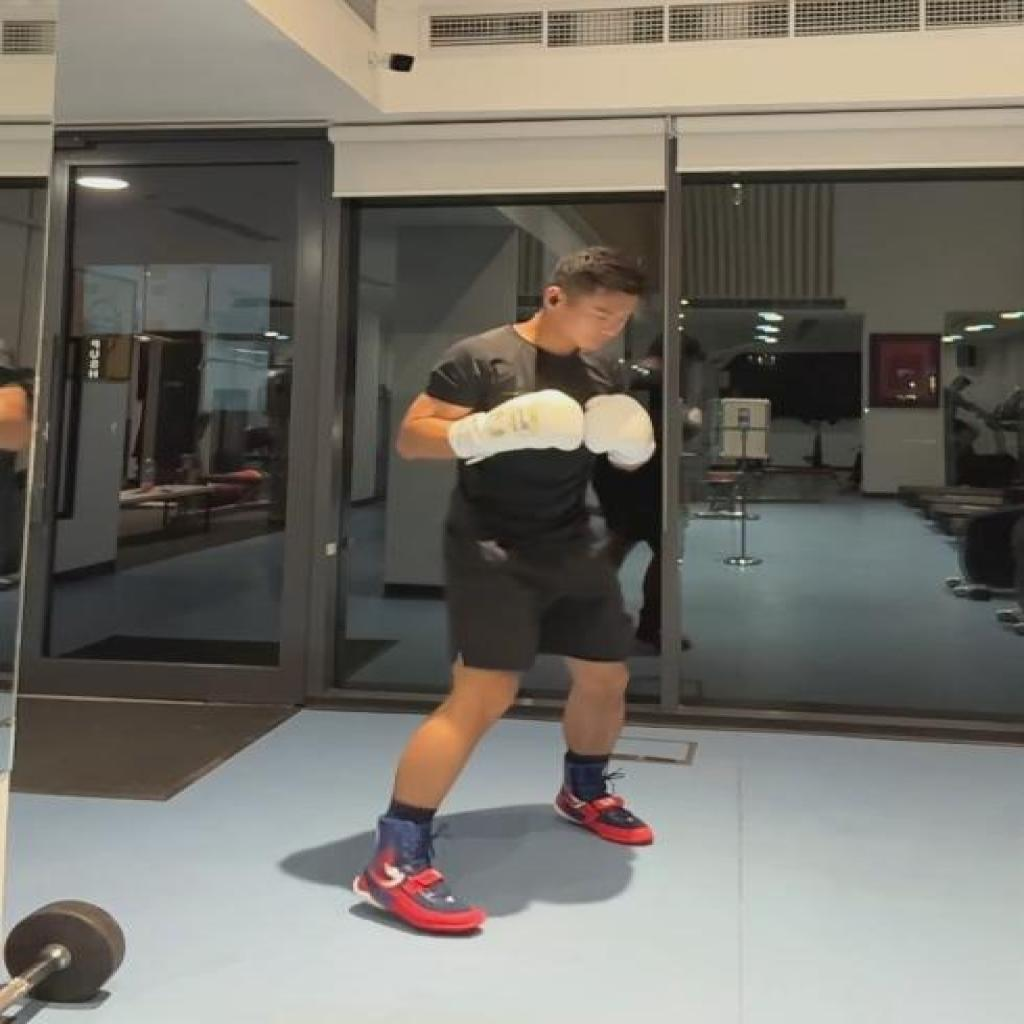no punch: (351, 248, 663, 941)
